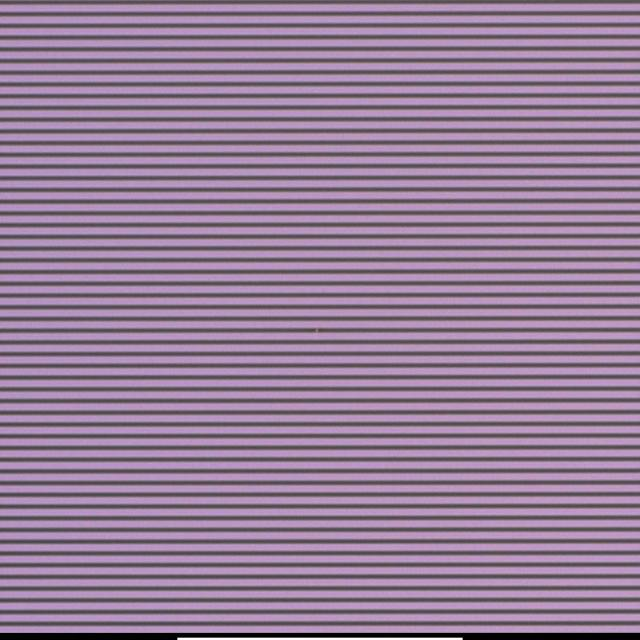03_intrusion: (309, 325, 322, 336)
